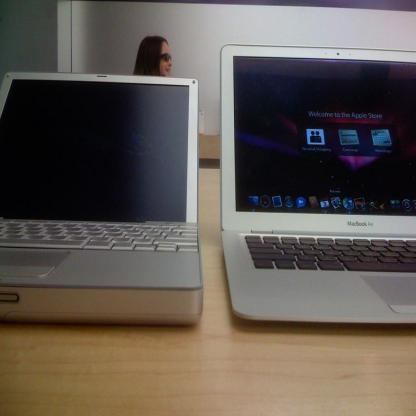board: (220, 45, 416, 323), (0, 73, 204, 323)
